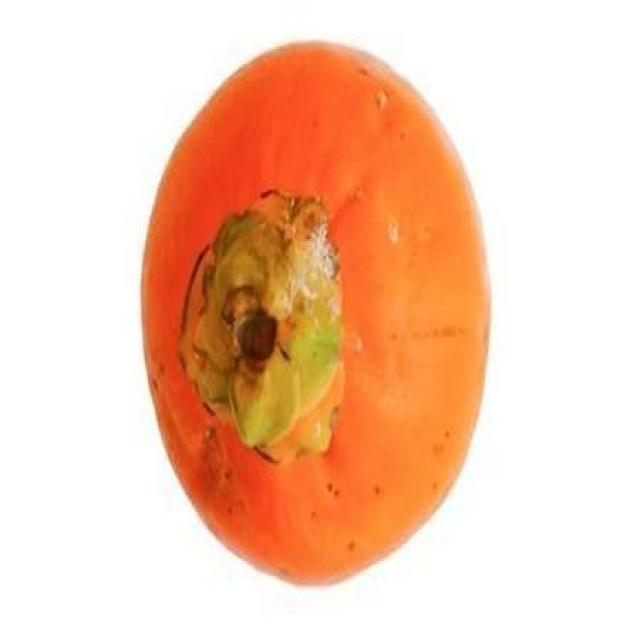good: (149, 45, 492, 589)
